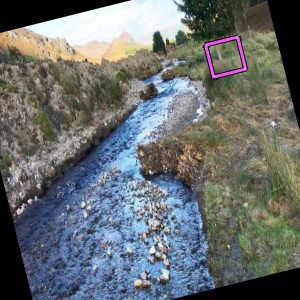square: (201, 33, 248, 80)
